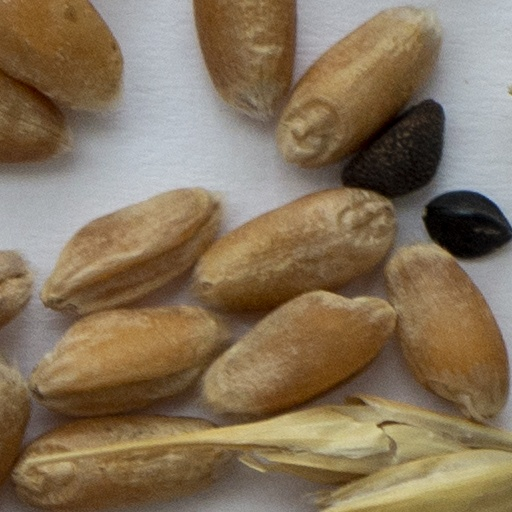Convolvulus-poly: (341, 102, 443, 195)
Fallopia-Convolvulus-poly: (424, 190, 511, 258)
